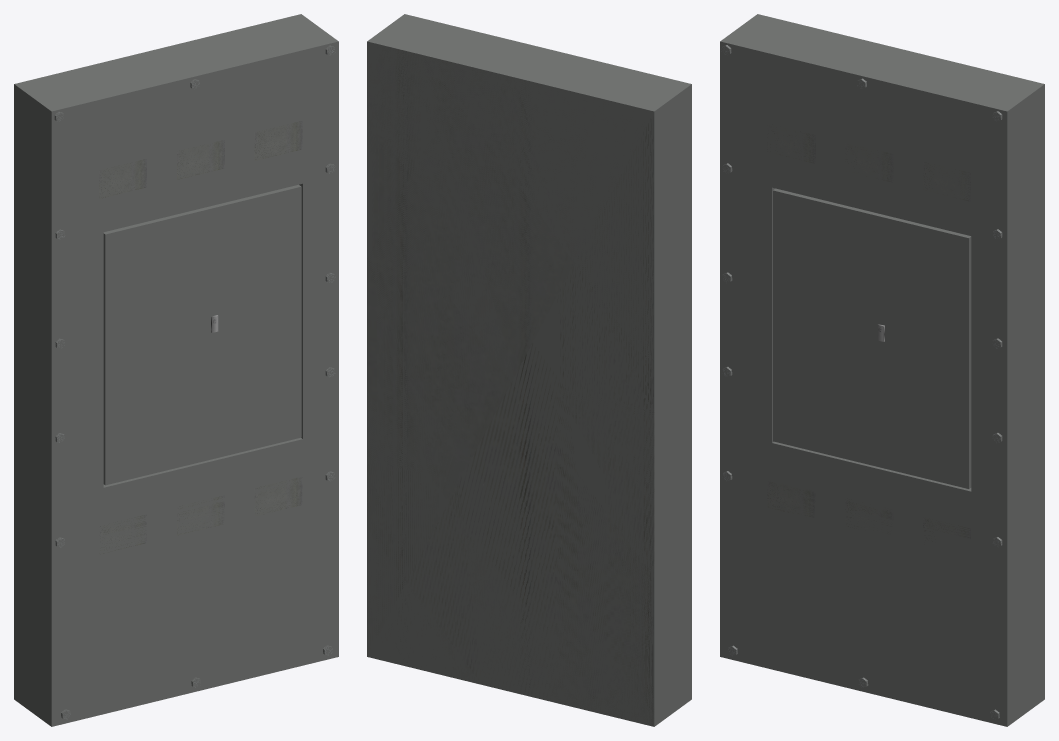
The model's file is gab3.fbx.
The picture shows the model from 3 angles, left to right: view 1: azimuth 30°, elevation 25°; view 2: azimuth 150°, elevation 25°; view 3: azimuth 330°, elevation 25°; orthographic projection.
Visible parts, largest first — view 1: SketchUp_1; view 2: SketchUp_1; view 3: SketchUp_1.
Boxes of the visible parts, x1,y1,x2,y2 form: SketchUp_1: (14, 14, 338, 726); SketchUp_1: (367, 14, 691, 726); SketchUp_1: (720, 14, 1044, 726).
Size of the model in its own units: 42 by 86 by 9.88.
Materials: 9 (9 with a texture image).
